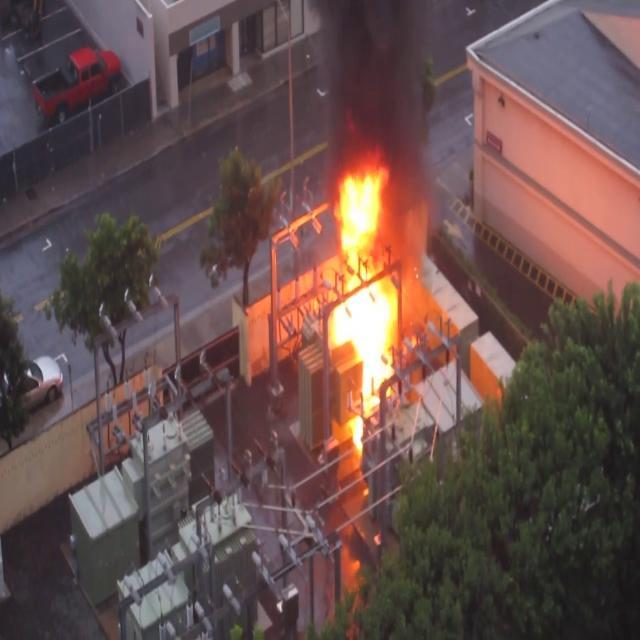Fire: (320, 160, 412, 424)
Smoke: (308, 0, 451, 194)
